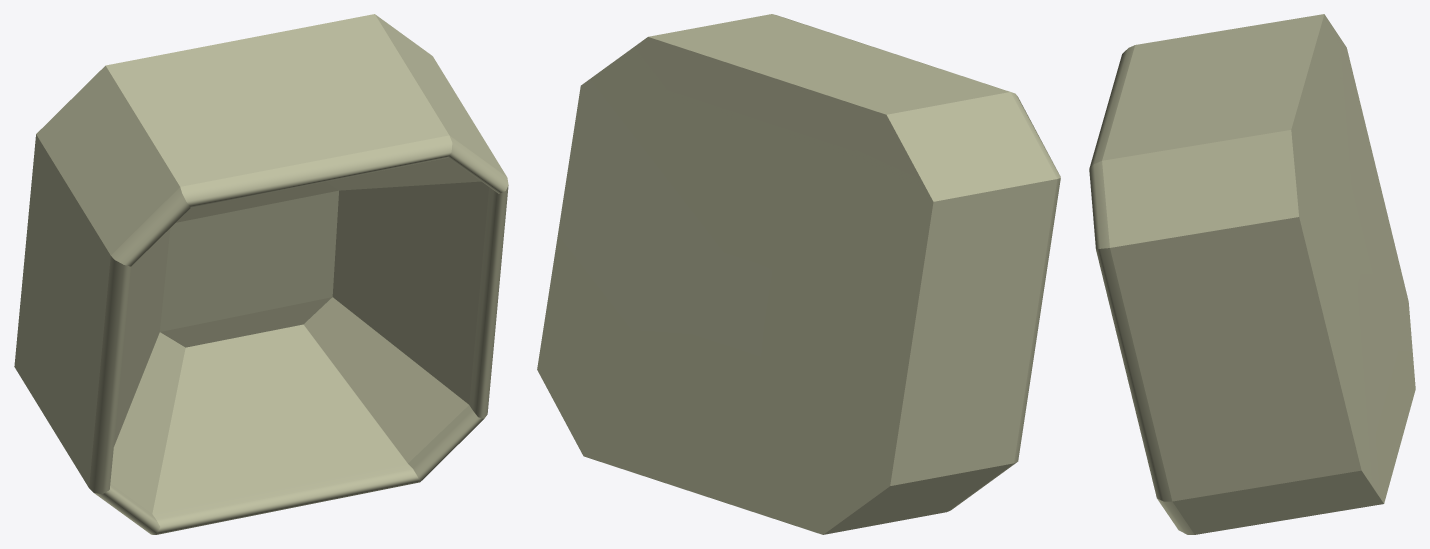
File: BL1_8shapes_Square_Classic_Metal.001 3.glb
The picture shows the model from 3 angles, left to right: view 1: azimuth 30°, elevation 25°; view 2: azimuth 150°, elevation 25°; view 3: azimuth 270°, elevation 25°; orthographic projection. The views are drawn at different scales.
Visible parts, largest first — view 1: BL1_8shapes_Square_Classic_Metal.001; view 2: BL1_8shapes_Square_Classic_Metal.001; view 3: BL1_8shapes_Square_Classic_Metal.001.
Boxes of the visible parts, box(x1,y1,x2,y2) form: BL1_8shapes_Square_Classic_Metal.001: box(14, 14, 508, 534); BL1_8shapes_Square_Classic_Metal.001: box(537, 14, 1060, 534); BL1_8shapes_Square_Classic_Metal.001: box(1089, 14, 1415, 534).
Bounding box in the file's own units: 0.4482 × 0.4534 × 0.3243.
